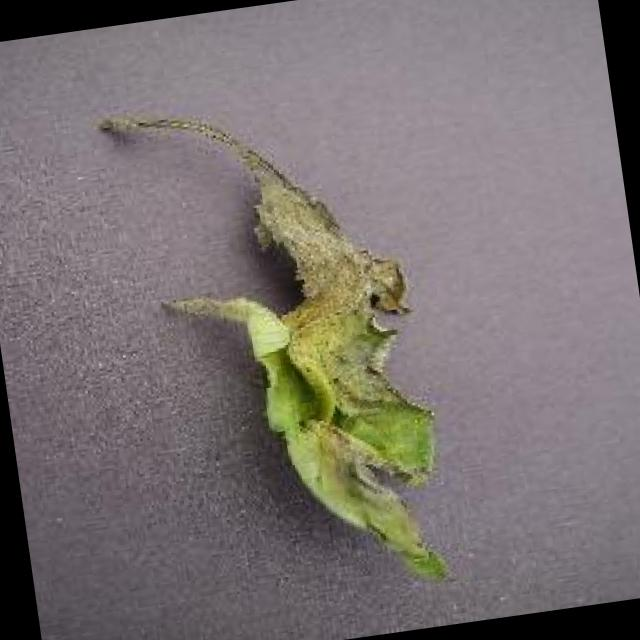Tomato_Late_Blight: (106, 69, 489, 623)
